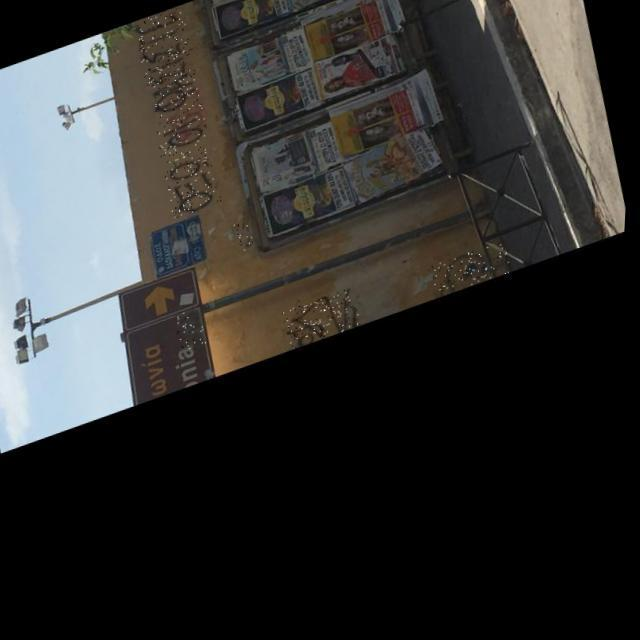-: (125, 4, 232, 228), (284, 294, 366, 358), (432, 251, 516, 309), (175, 311, 212, 357), (234, 224, 258, 260)
